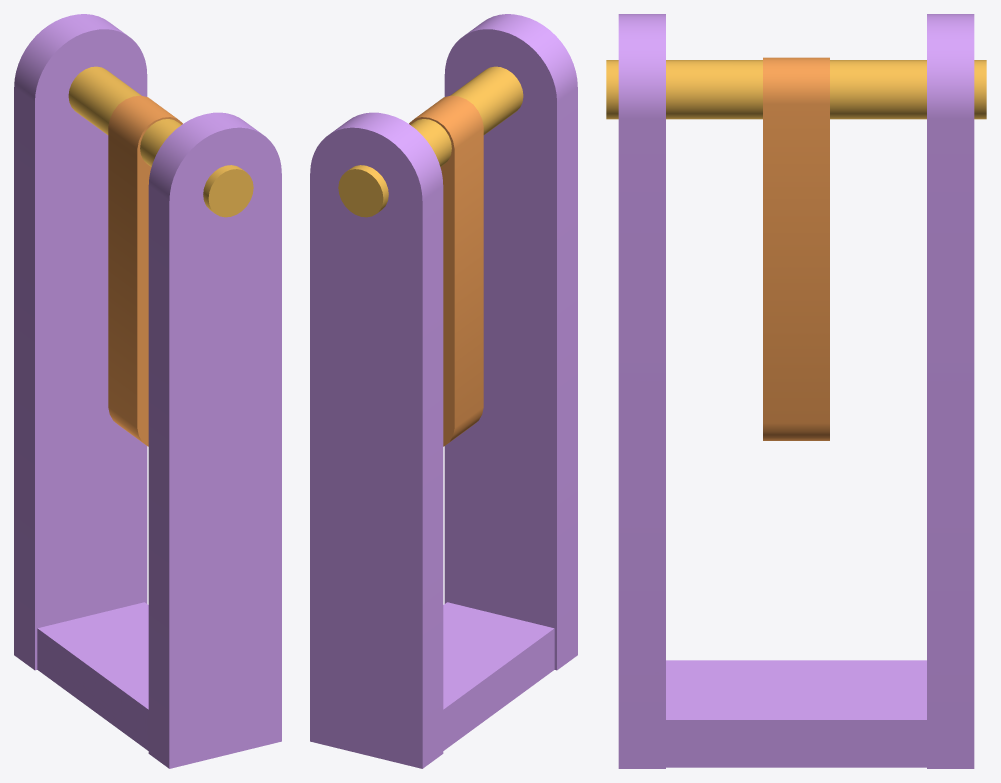
The model's file is Crane B Small.fbx.
3 views of the same model, side by side, from view 1: azimuth 30°, elevation 25°; view 2: azimuth 150°, elevation 25°; view 3: azimuth 270°, elevation 25° (orthographic). The views are drawn at different scales.
Visible parts, largest first — view 1: Crane B Small.004, Crane B Small.003, Crane B Small.001, Crane B Small.002, Crane B Small; view 2: Crane B Small.003, Crane B Small.004, Crane B Small.001, Crane B Small.002, Crane B Small; view 3: Crane B Small.003, Crane B Small.004, Crane B Small.002, Crane B Small.001, Crane B Small.
Part boxes in pixels (<box>): Crane B Small.004: <box>148,112,281,768</box>; Crane B Small.003: <box>14,14,147,670</box>; Crane B Small.001: <box>108,95,182,446</box>; Crane B Small.002: <box>37,602,148,750</box>; Crane B Small: <box>68,66,253,217</box>; Crane B Small.003: <box>310,112,443,768</box>; Crane B Small.004: <box>444,14,577,670</box>; Crane B Small.001: <box>409,95,483,446</box>; Crane B Small.002: <box>443,602,554,750</box>; Crane B Small: <box>338,66,523,217</box>; Crane B Small.003: <box>927,14,974,768</box>; Crane B Small.004: <box>618,14,665,768</box>; Crane B Small.002: <box>666,660,926,767</box>; Crane B Small.001: <box>763,57,829,440</box>; Crane B Small: <box>606,60,986,119</box>.
Size of the model in its own units: 53.12 by 283 by 136.
